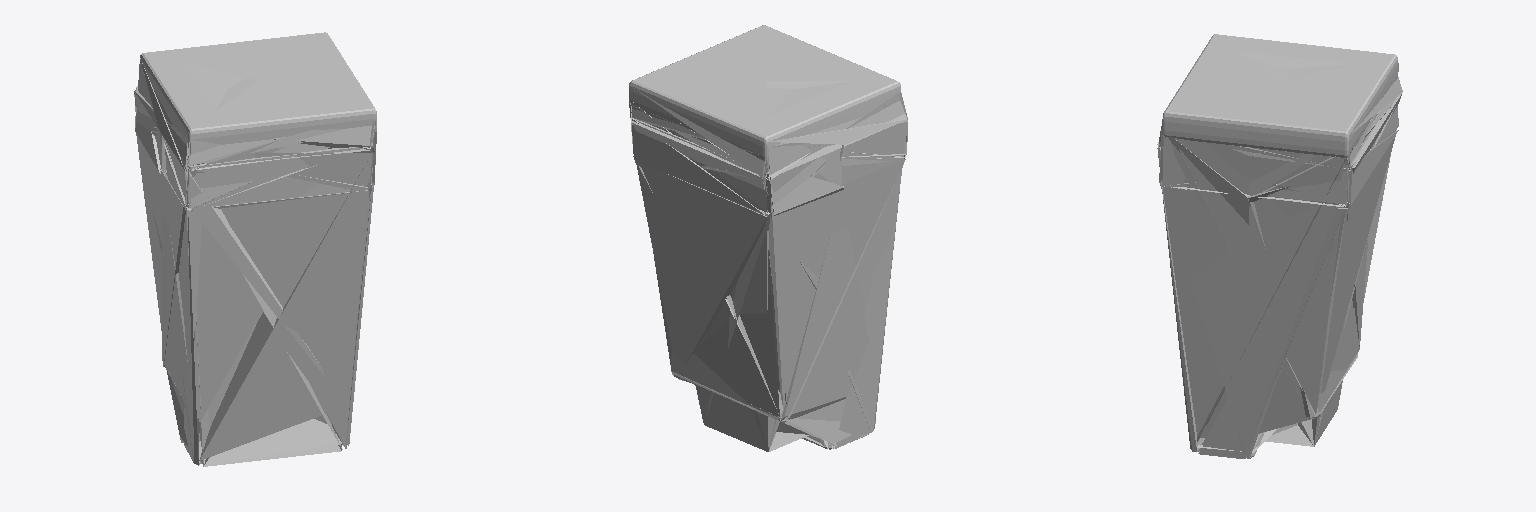
The model's file is Trash can.obj.
The picture shows the model from 3 angles: view 1: azimuth 30°, elevation 25°; view 2: azimuth 150°, elevation 25°; view 3: azimuth 270°, elevation 25°; orthographic projection.
Parts seen in each view (by area): view 1: Box008, Box010, Cylinder006, Box007, Cylinder005, Box006; view 2: Box008, Box010, Cylinder005, Box007, Cylinder006, Box006; view 3: Box008, Box010, Box007, Cylinder005, Cylinder006, Box006.
Boxes of the visible parts, x1,y1,x2,y2 form: Box008: [134, 33, 376, 466]; Box010: [140, 32, 376, 147]; Cylinder006: [152, 63, 374, 418]; Box007: [186, 49, 333, 111]; Cylinder005: [136, 64, 370, 340]; Box006: [184, 63, 227, 111]; Box008: [629, 30, 907, 449]; Box010: [629, 25, 900, 160]; Cylinder005: [630, 91, 898, 451]; Box007: [629, 45, 848, 116]; Cylinder006: [632, 81, 849, 451]; Box006: [764, 81, 850, 142]; Box008: [1157, 42, 1402, 458]; Box010: [1162, 34, 1398, 157]; Box007: [1207, 51, 1353, 136]; Cylinder005: [1165, 70, 1396, 446]; Cylinder006: [1170, 52, 1398, 445]; Box006: [1239, 51, 1351, 68].
Bounding box in the file's own units: 247627 × 390363 × 249545.